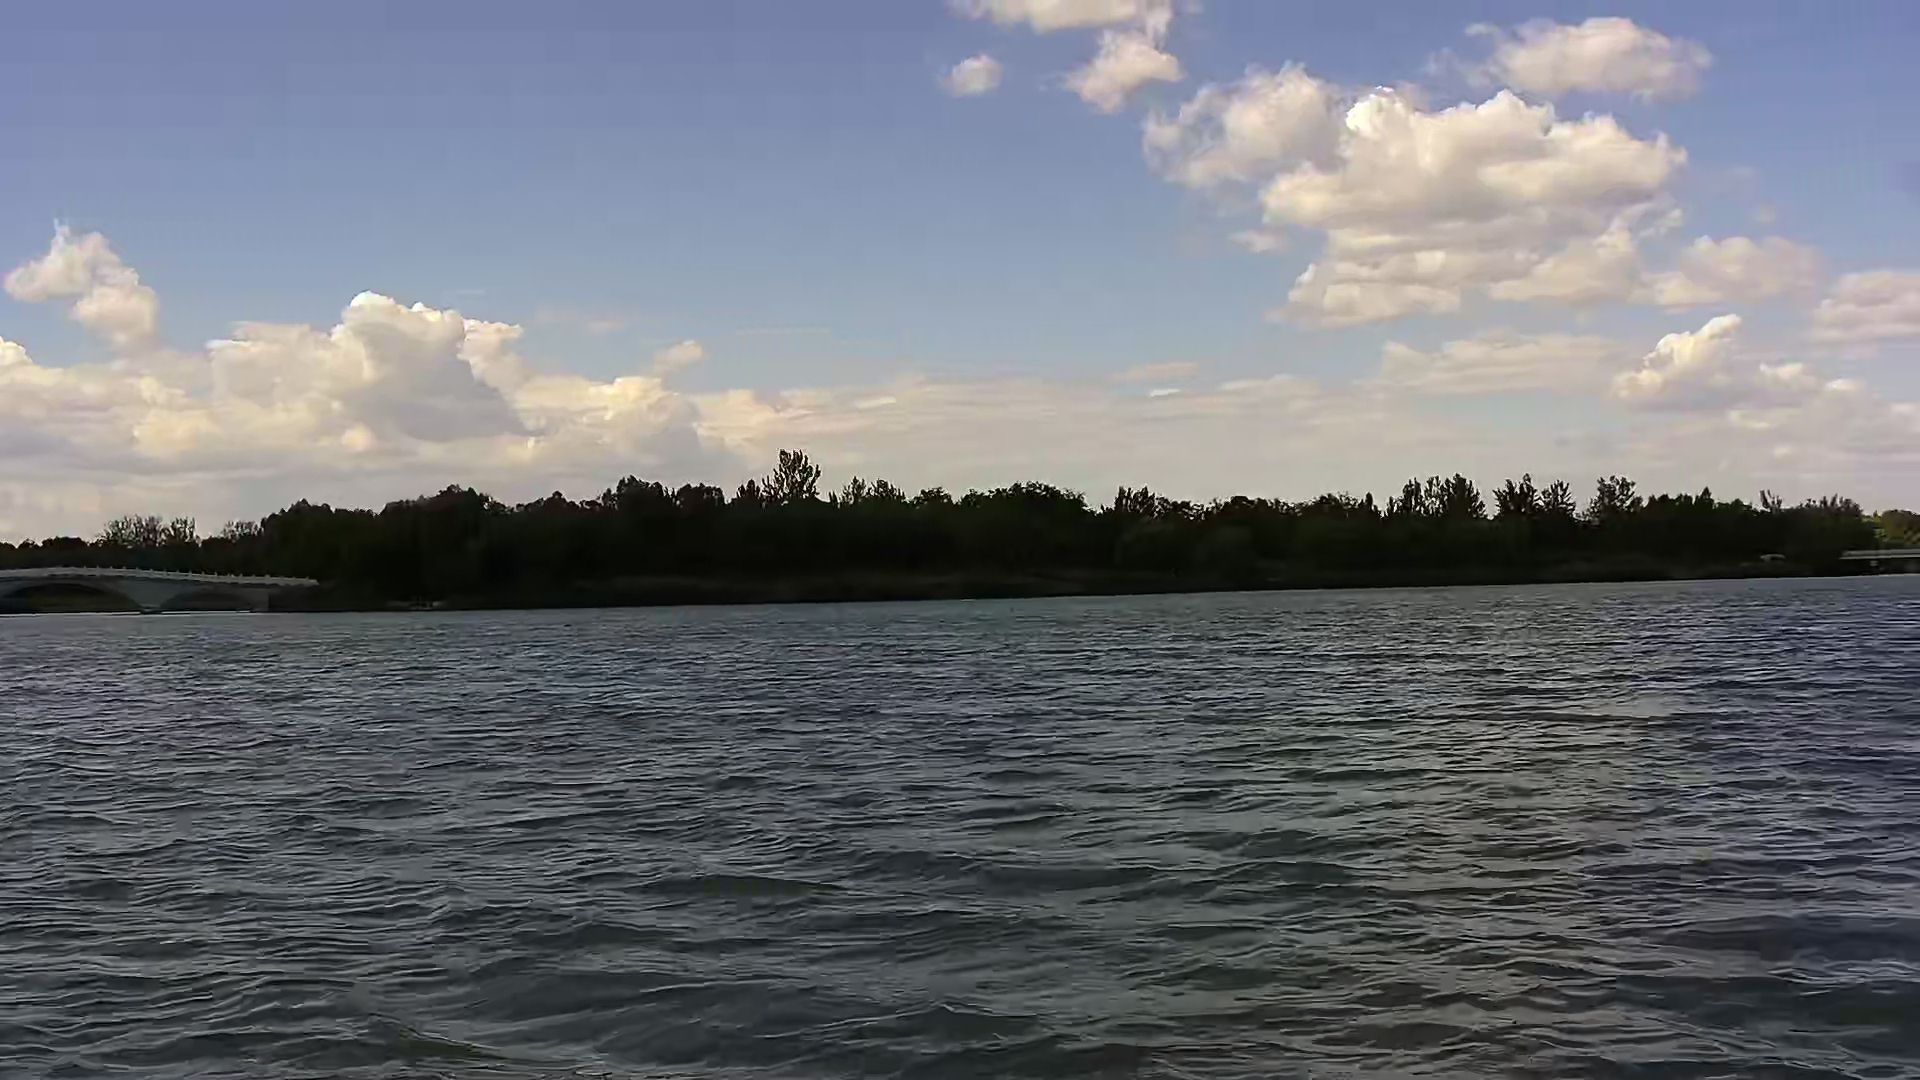bridge: (1, 559, 320, 617)
